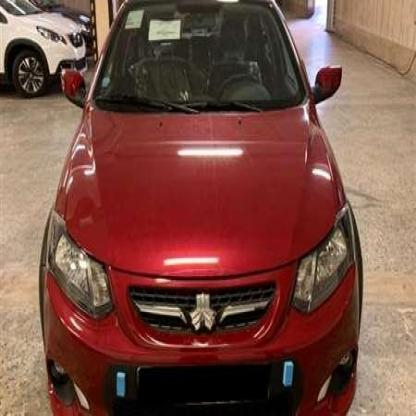Car: (44, 5, 365, 416), (0, 7, 85, 103)
